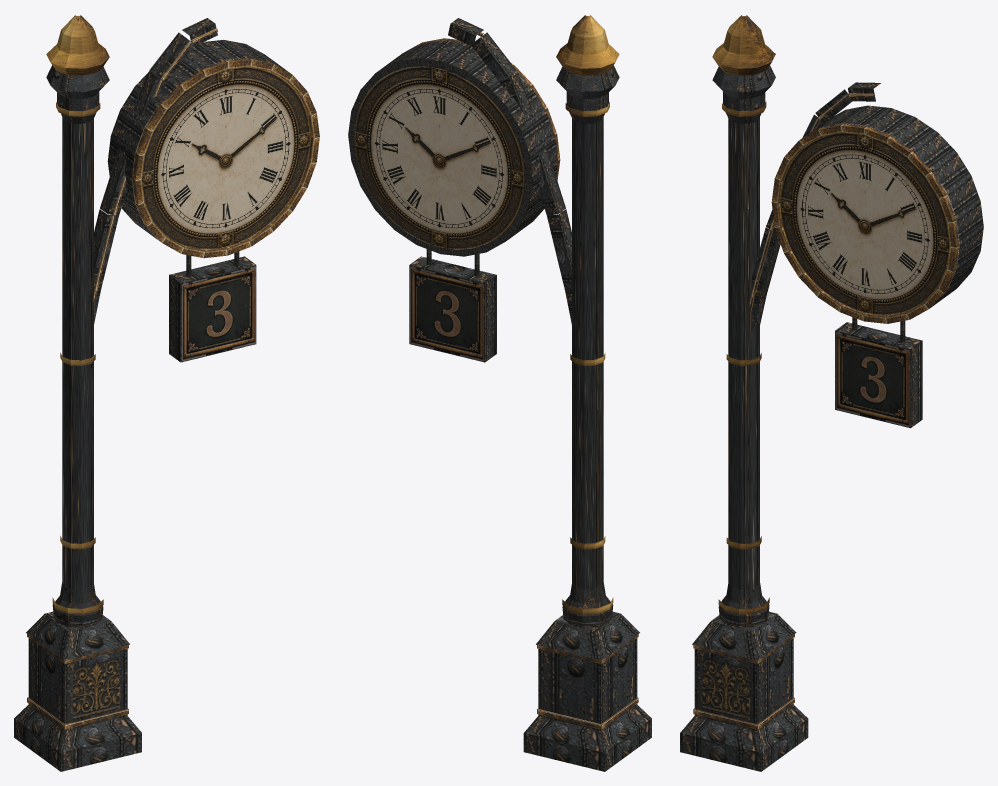
Rendered from station_clock_sign.glb.
3 views of the same model, side by side, from view 1: azimuth 30°, elevation 25°; view 2: azimuth 150°, elevation 25°; view 3: azimuth 330°, elevation 25° (orthographic).
Parts seen in each view (by area): view 1: station_clock_sign; view 2: station_clock_sign; view 3: station_clock_sign.
Boxes of the visible parts, x1,y1,x2,y2 form: station_clock_sign: [14, 15, 319, 771]; station_clock_sign: [348, 15, 651, 771]; station_clock_sign: [680, 15, 983, 771].
Size of the model in its own units: 1.45 by 3.78 by 0.44.
5 materials, 5 textured.
